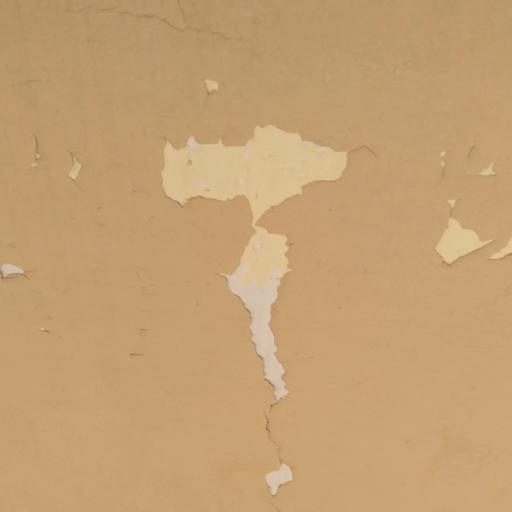peeling: (145, 94, 363, 511), (0, 129, 94, 286), (436, 126, 512, 296)
